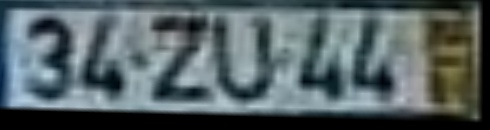3: (22, 16, 78, 105)
4: (296, 15, 351, 108), (349, 17, 404, 109), (78, 18, 131, 106)
U: (212, 15, 279, 107)
Z: (147, 14, 218, 107)
